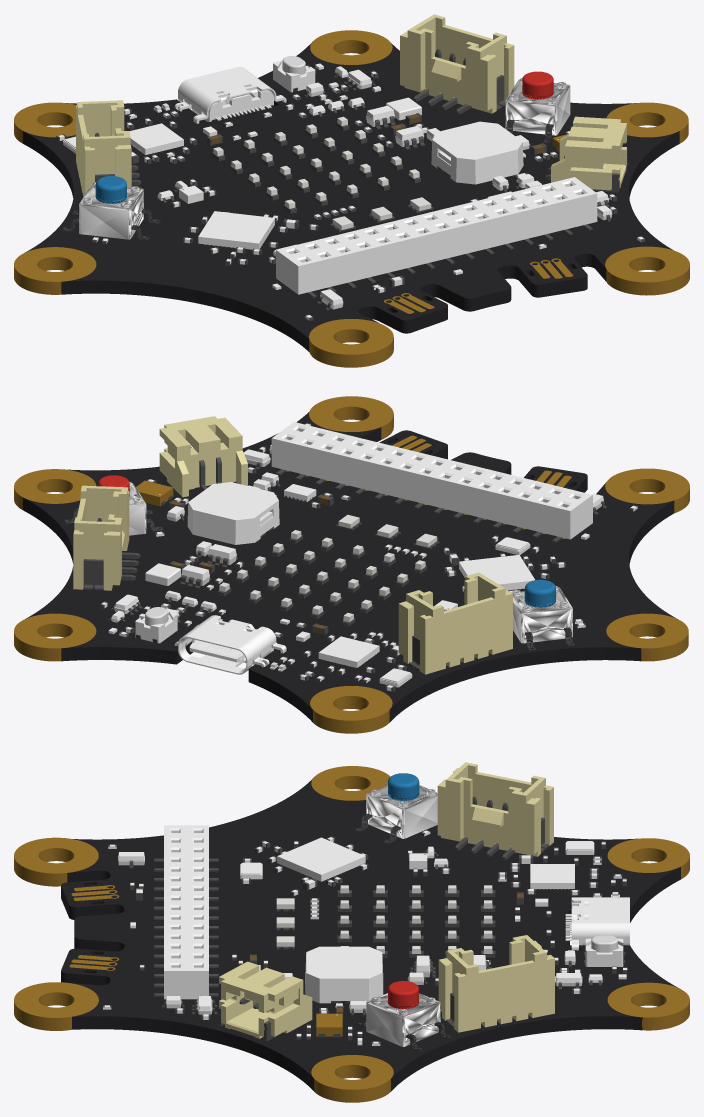
Rendered from calliope-mini-3.glb.
3 renders of one model, top to bottom at view 1: azimuth 30°, elevation 25°; view 2: azimuth 150°, elevation 25°; view 3: azimuth 270°, elevation 25°, orthographic.
Parts seen in each view (by area): view 1: board_static, grove_right, grove_left, button_a, pad_bottom_right, pad_bottom_left, button_b, pad_left, pad_top_right, pad_right, pad_top_left; view 2: board_static, grove_left, grove_right, button_a, pad_top_left, pad_left, pad_top_right, pad_bottom_left, pad_bottom_right, pad_right, button_b; view 3: board_static, grove_left, grove_right, button_b, button_a, pad_right, pad_bottom_right, pad_bottom_left, pad_top_right, pad_top_left, pad_left.
Part boxes in pixels (left/top/right/bottom): board_static: left=23, top=43, right=679, bottom=351; grove_right: left=400, top=14, right=514, bottom=113; grove_left: left=76, top=100, right=131, bottom=196; button_a: left=62, top=176, right=160, bottom=240; pad_bottom_right: left=605, top=246, right=689, bottom=295; pad_bottom_left: left=309, top=319, right=393, bottom=367; button_b: left=505, top=71, right=571, bottom=142; pad_left: left=14, top=247, right=96, bottom=294; pad_top_right: left=310, top=30, right=392, bottom=64; pad_right: left=606, top=102, right=688, bottom=143; pad_top_left: left=14, top=102, right=76, bottom=143; board_static: left=23, top=412, right=675, bottom=722; grove_left: left=398, top=572, right=512, bottom=674; grove_right: left=73, top=485, right=129, bottom=590; button_a: left=511, top=579, right=574, bottom=650; pad_top_left: left=310, top=686, right=392, bottom=733; pad_left: left=606, top=613, right=688, bottom=661; pad_top_right: left=14, top=613, right=96, bottom=661; pad_bottom_left: left=605, top=468, right=689, bottom=513; pad_bottom_right: left=309, top=396, right=393, bottom=439; pad_right: left=14, top=469, right=96, bottom=509; button_b: left=64, top=475, right=163, bottom=535; board_static: left=61, top=777, right=680, bottom=1091; grove_left: left=437, top=762, right=553, bottom=856; grove_right: left=438, top=935, right=554, bottom=1032; button_b: left=355, top=981, right=451, bottom=1051; button_a: left=355, top=773, right=437, bottom=843; pad_right: left=311, top=1055, right=393, bottom=1102; pad_bottom_right: left=14, top=982, right=98, bottom=1030; pad_bottom_left: left=14, top=837, right=98, bottom=886; pad_top_right: left=607, top=982, right=689, bottom=1030; pad_top_left: left=607, top=838, right=689, bottom=879; pad_left: left=311, top=766, right=390, bottom=800.
Size of the model in its own units: 8.55 by 0.9362 by 7.54.
